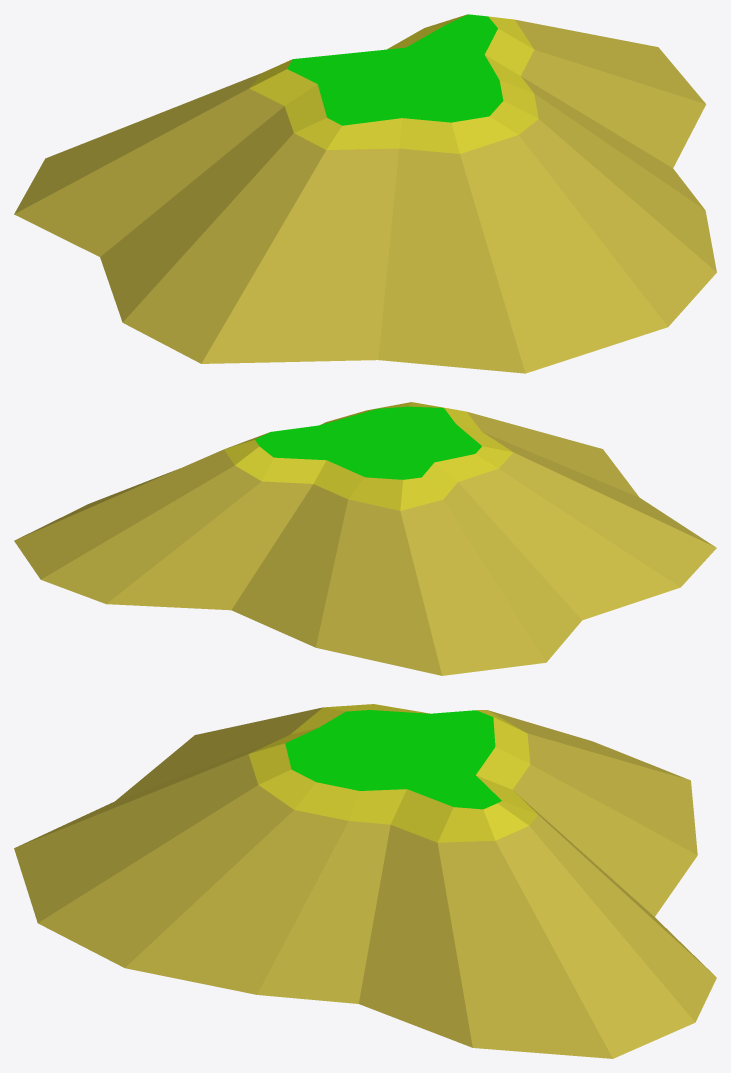
Rendered from island.fbx.
3 views of the same model, one above another, from view 1: azimuth 30°, elevation 25°; view 2: azimuth 150°, elevation 25°; view 3: azimuth 270°, elevation 25° (orthographic). The views are drawn at different scales.
Visible parts, largest first — view 1: Vert; view 2: Vert; view 3: Vert.
Part boxes in pixels (x1=…): Vert: x1=14, y1=14, x2=716, y2=373; Vert: x1=14, y1=402, x2=716, y2=675; Vert: x1=14, y1=704, x2=716, y2=1058.
Bounding box in the file's own units: 2885 × 3224 × 612.
